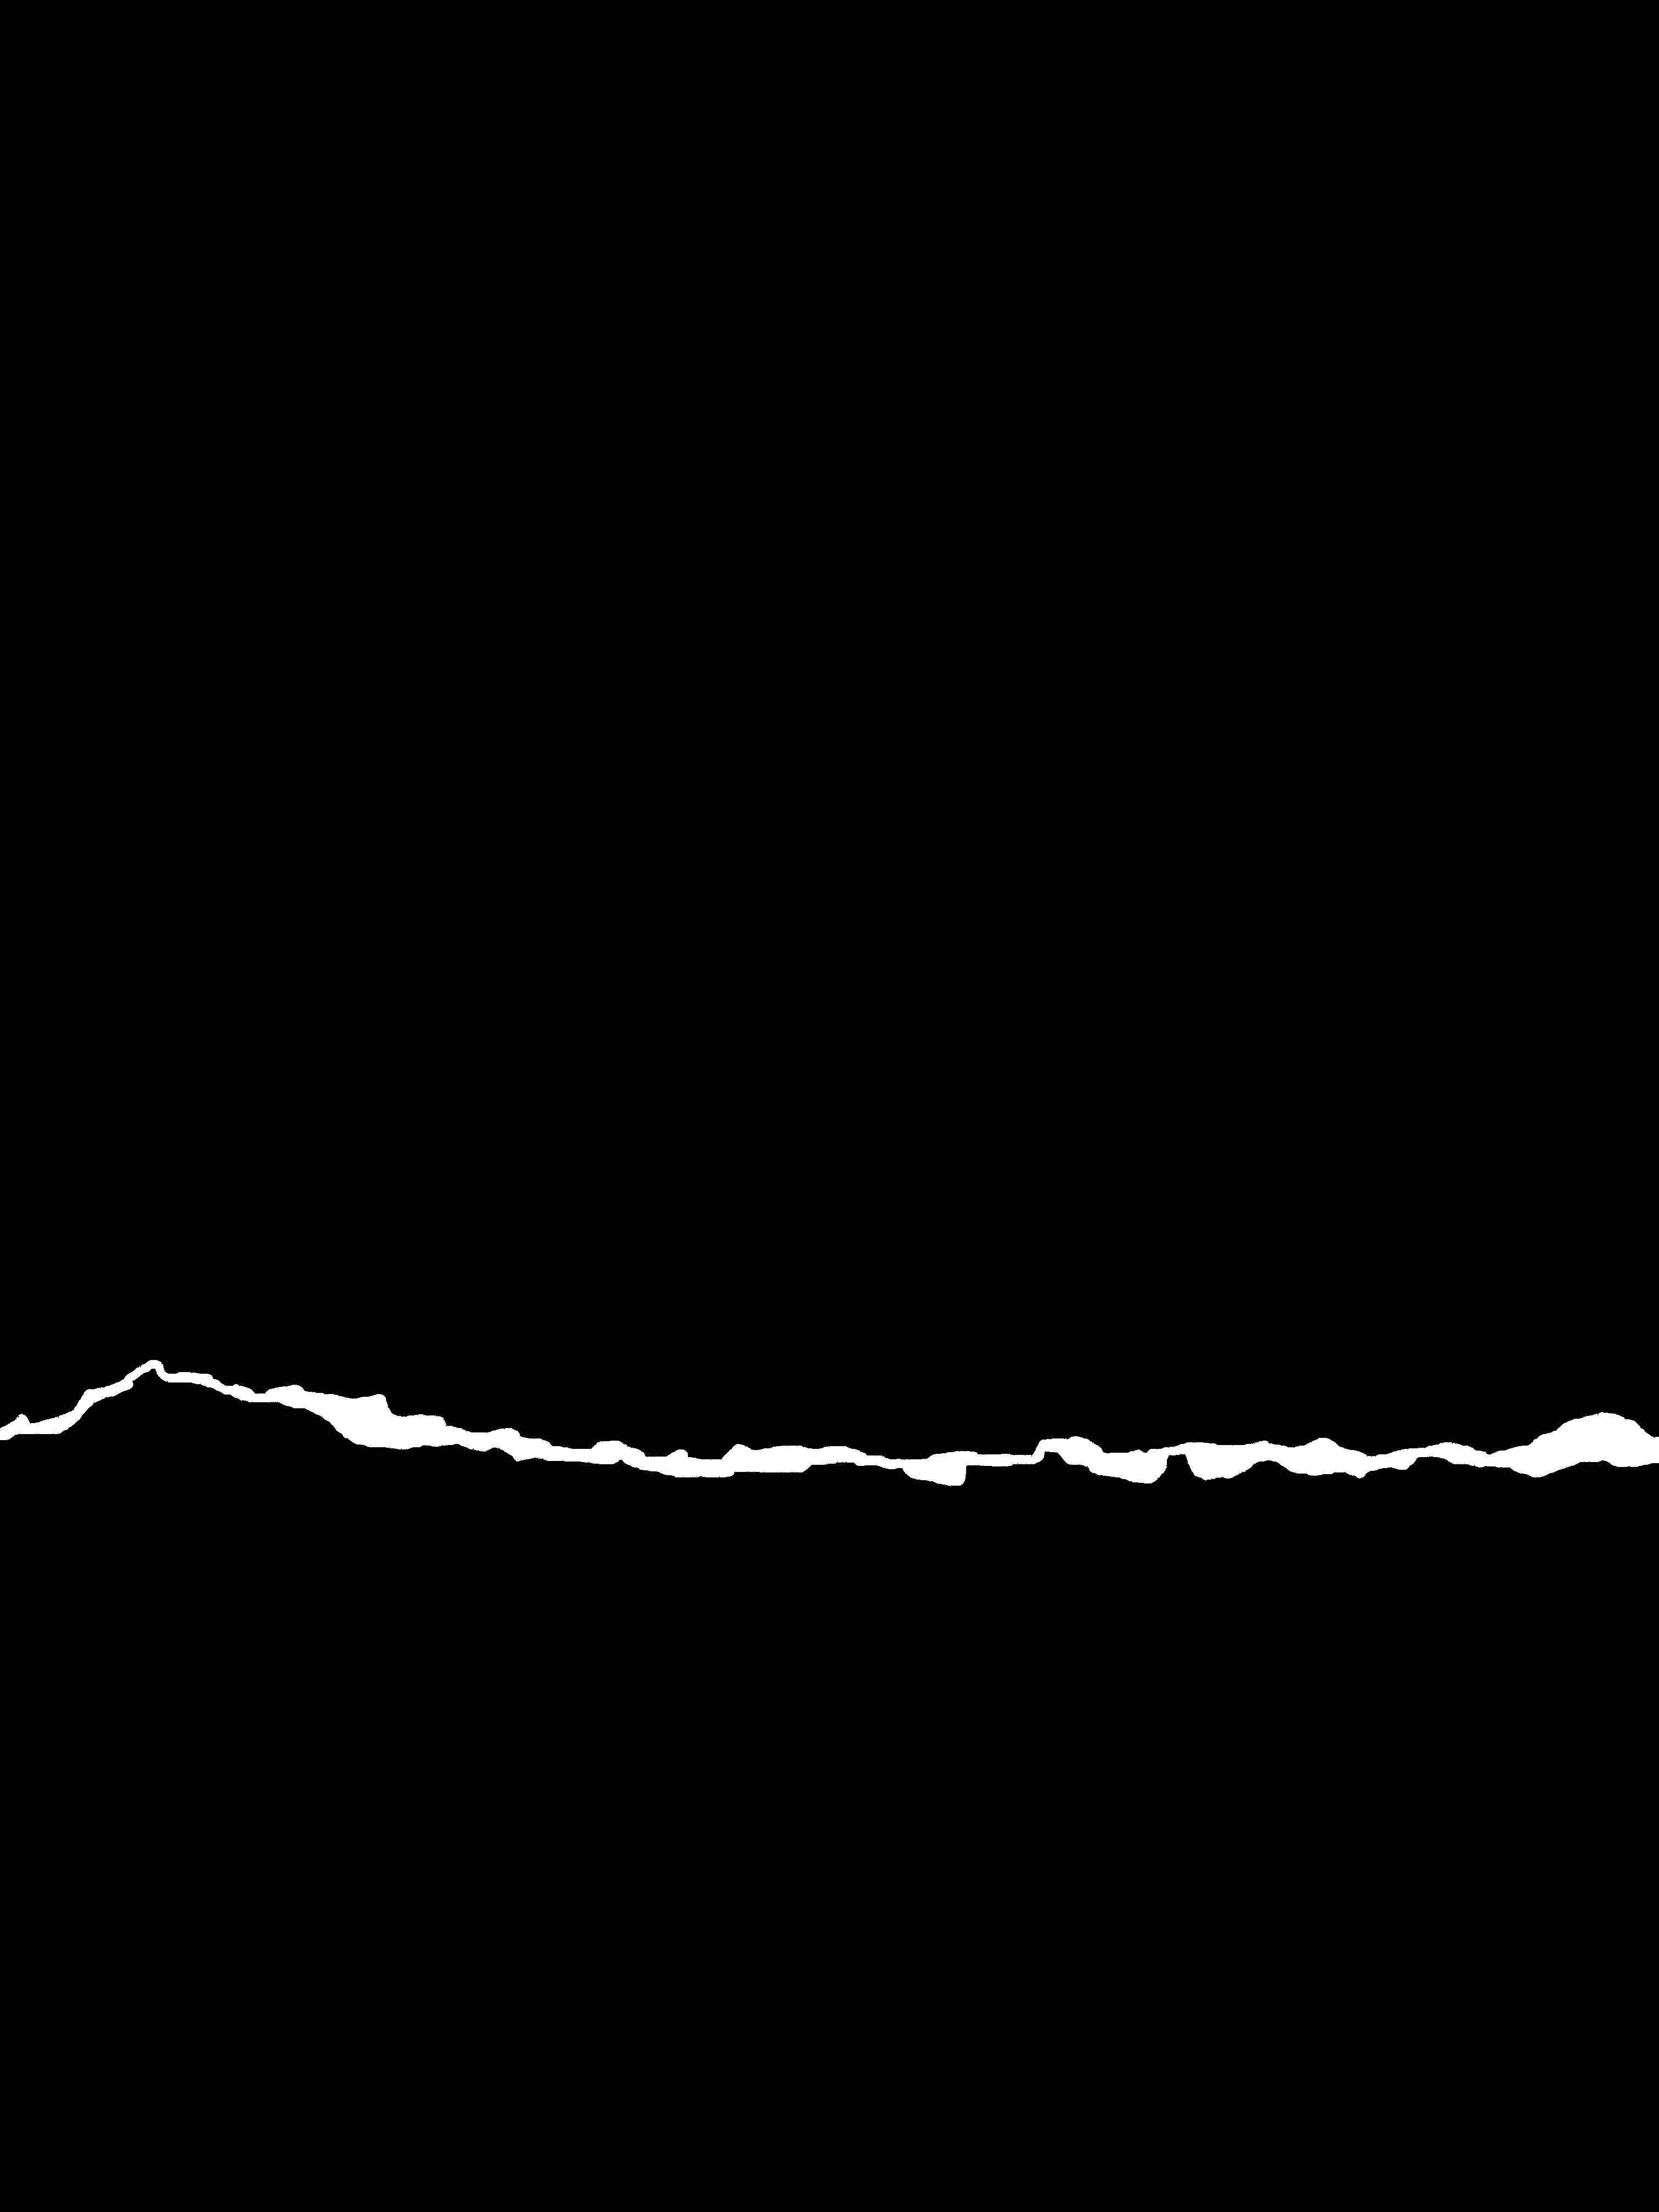Crack: (0, 1341, 1659, 1514)
